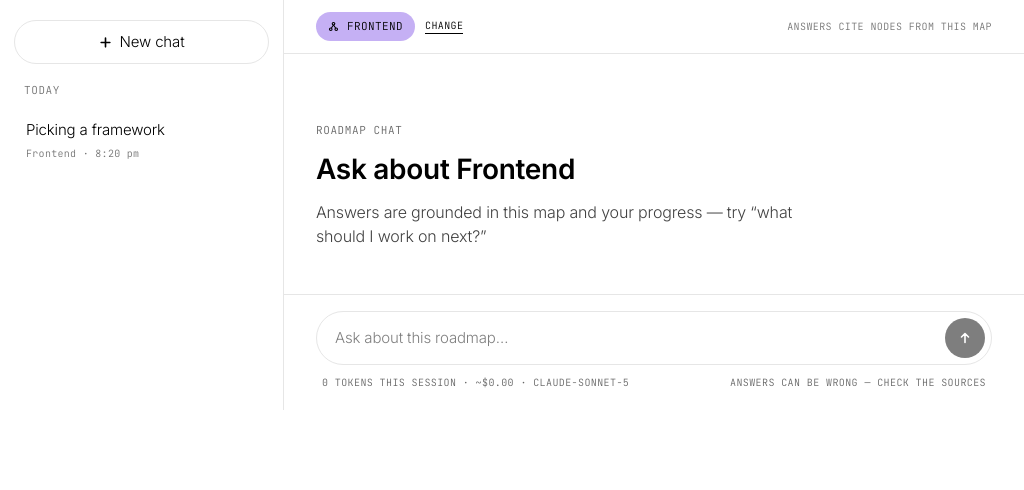
ChatScreen send flow › pre-stream failure restores the draft and drops the optimistic bubble
Type "hello there" into the field named "Message the tutor".
click(635, 338); type("hello there")  # box [335,327,935,349]
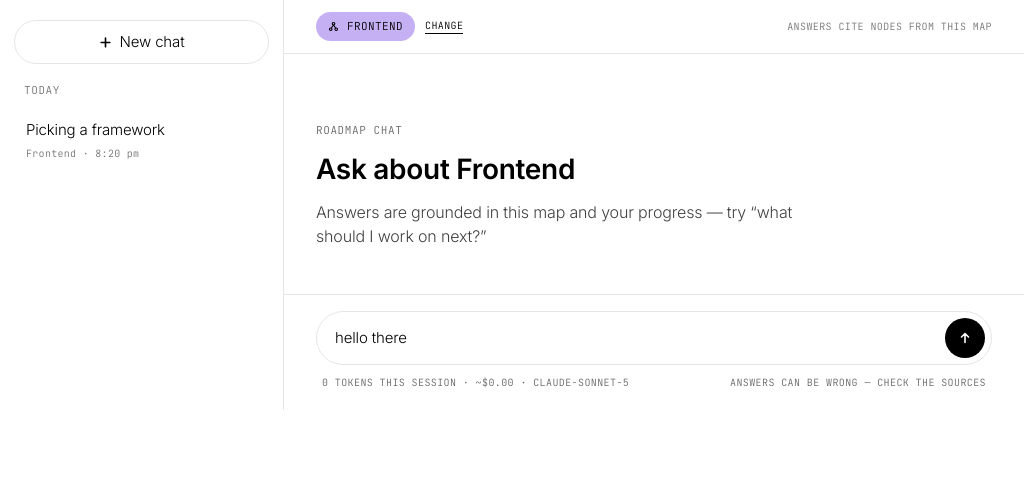
Click the button named "Send".
click(965, 338)  # box [945,318,985,358]
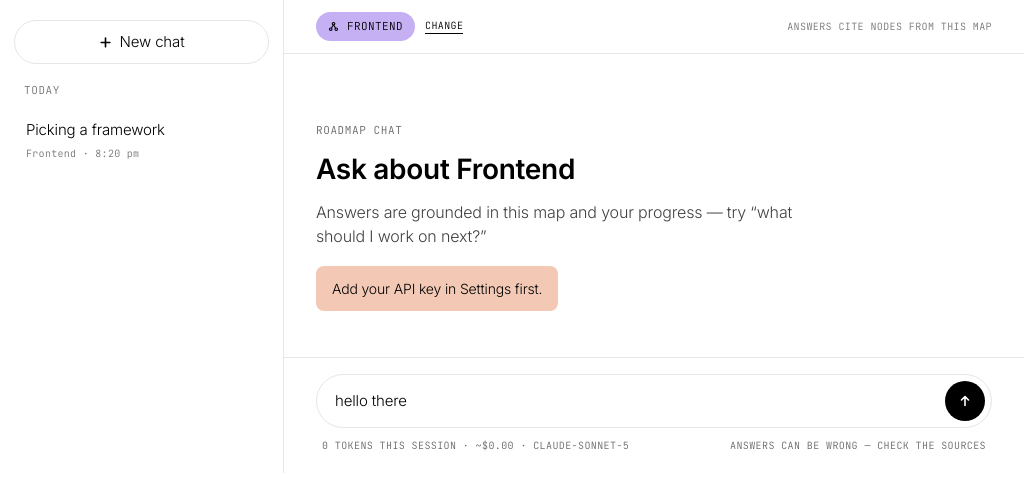
Check: the text "Add your API key in Settings first." is shown, box [316,266,558,311]
